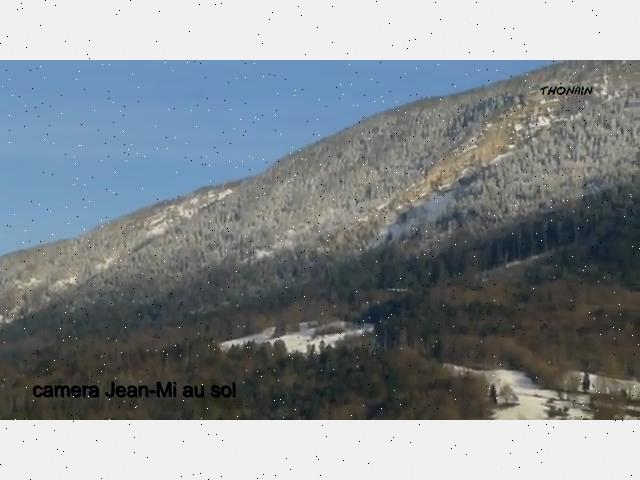Anti-Drone: (382, 283, 414, 299)
